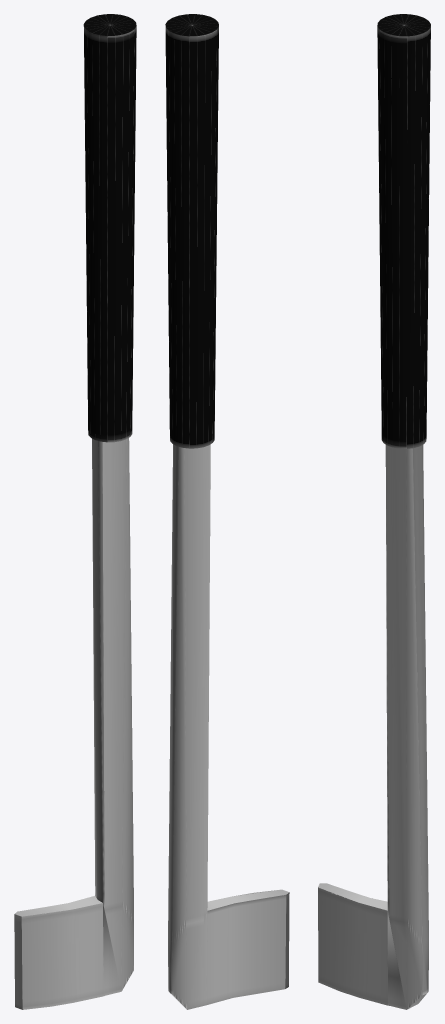
File: Putter.fbx
3 views of the same model, side by side, from view 1: azimuth 30°, elevation 25°; view 2: azimuth 210°, elevation 25°; view 3: azimuth 330°, elevation 25° (orthographic).
Visible parts, largest first — view 1: pCylinder1; view 2: pCylinder1; view 3: pCylinder1.
Boxes of the visible parts, x1,y1,x2,y2 form: pCylinder1: [14, 14, 136, 1009]; pCylinder1: [165, 14, 289, 1009]; pCylinder1: [318, 14, 430, 1009].
Bounding box in the file's own units: 1.72 × 14.11 × 0.6921.
